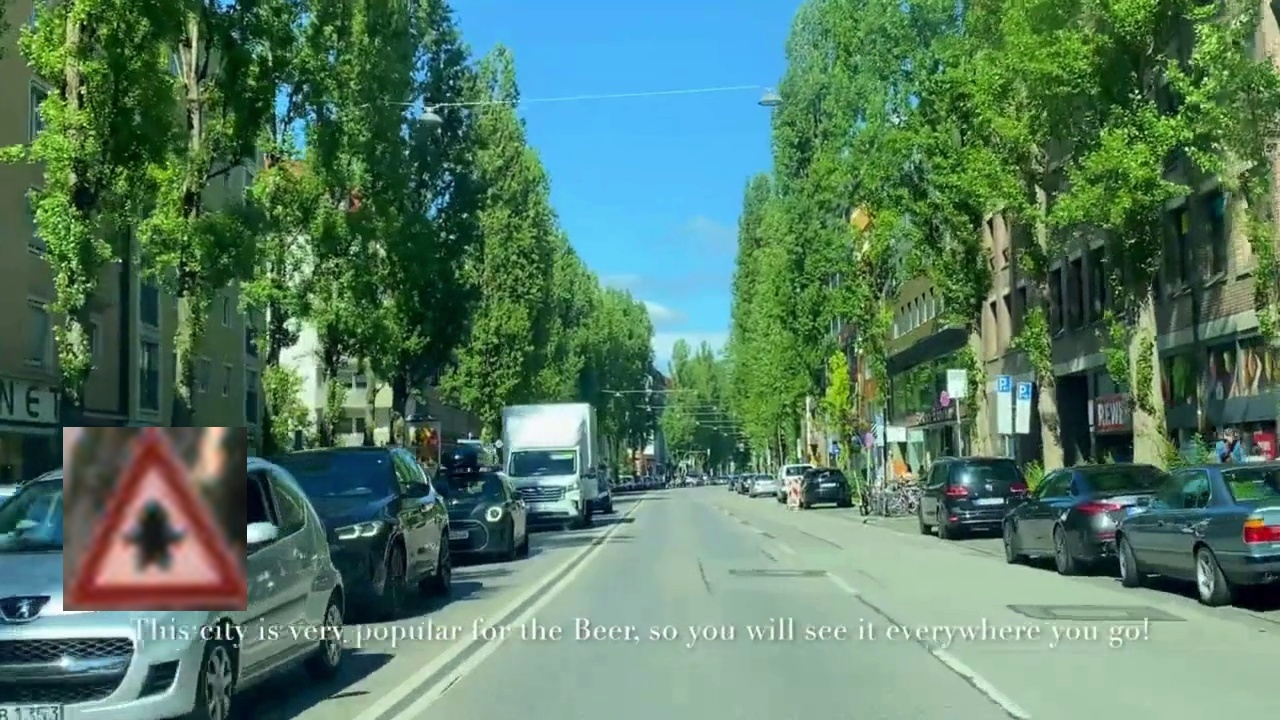Right-of-way: (63, 427, 247, 611)
